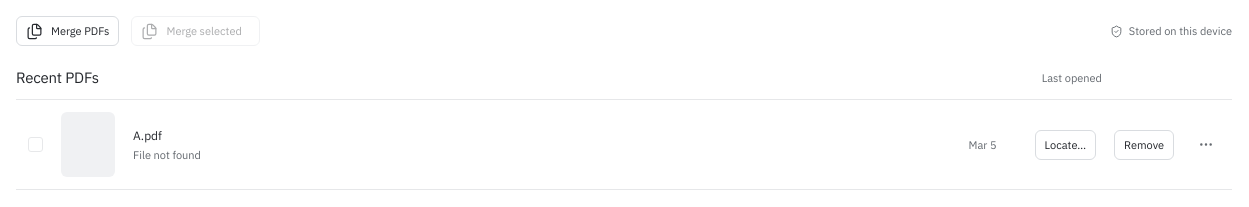
Test case: missing entries › Locate picks one file and relocates; the row stops showing File not found
Expected: the text "File not found" is shown, [133,148,201,162]
Click the button "Locate…": (1065, 144) [1035,130,1096,160]
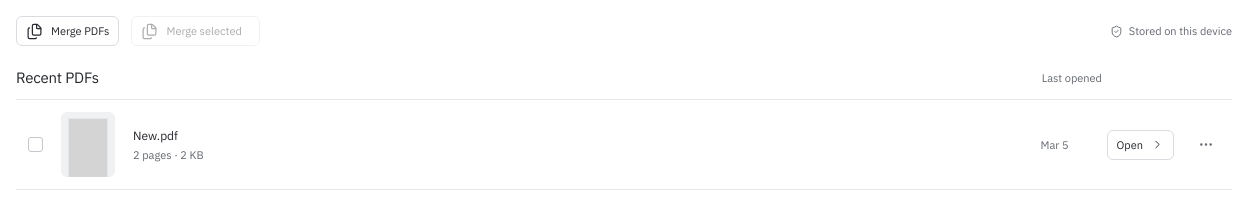
Result: the button "File not found" is gone
Result: the text "New.pdf" is shown at [133,128,178,142]
